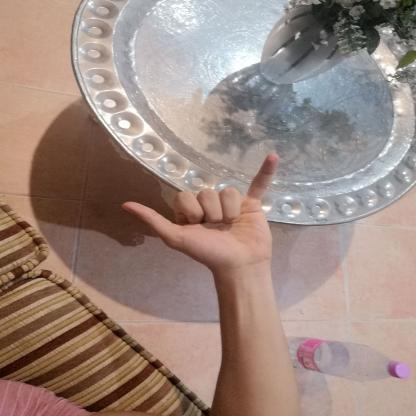YA: (109, 144, 289, 276)
